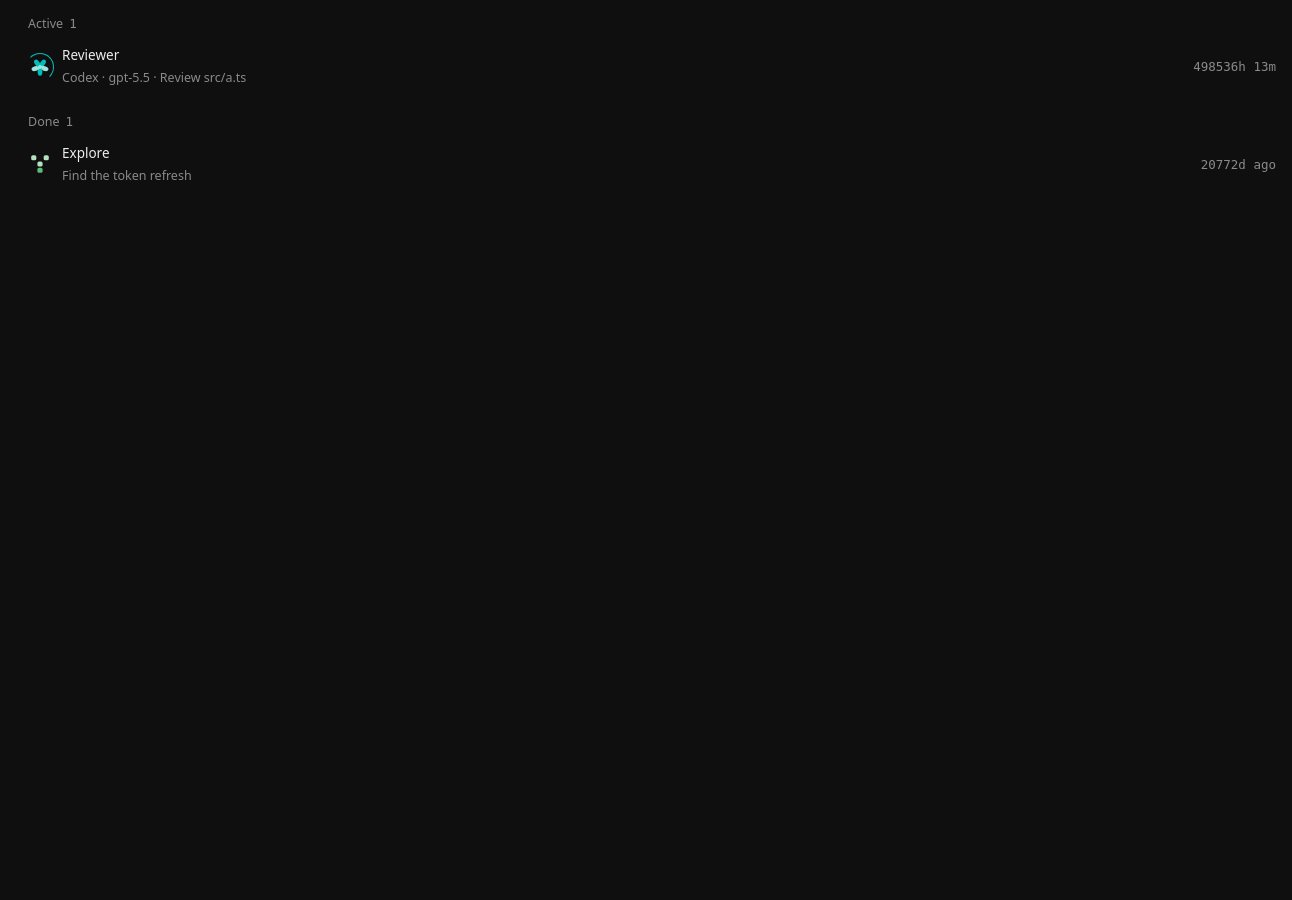
prompting a subagent from its detail › keeps the draft and says why when the prompt cannot be sent
This screenshot has width=1292, height=900.
Click the button "Reviewer Codex · gpt-5.5 · Review src/a.ts 498536h 13m". click: (91, 55)
box: [20,39,1284,94]
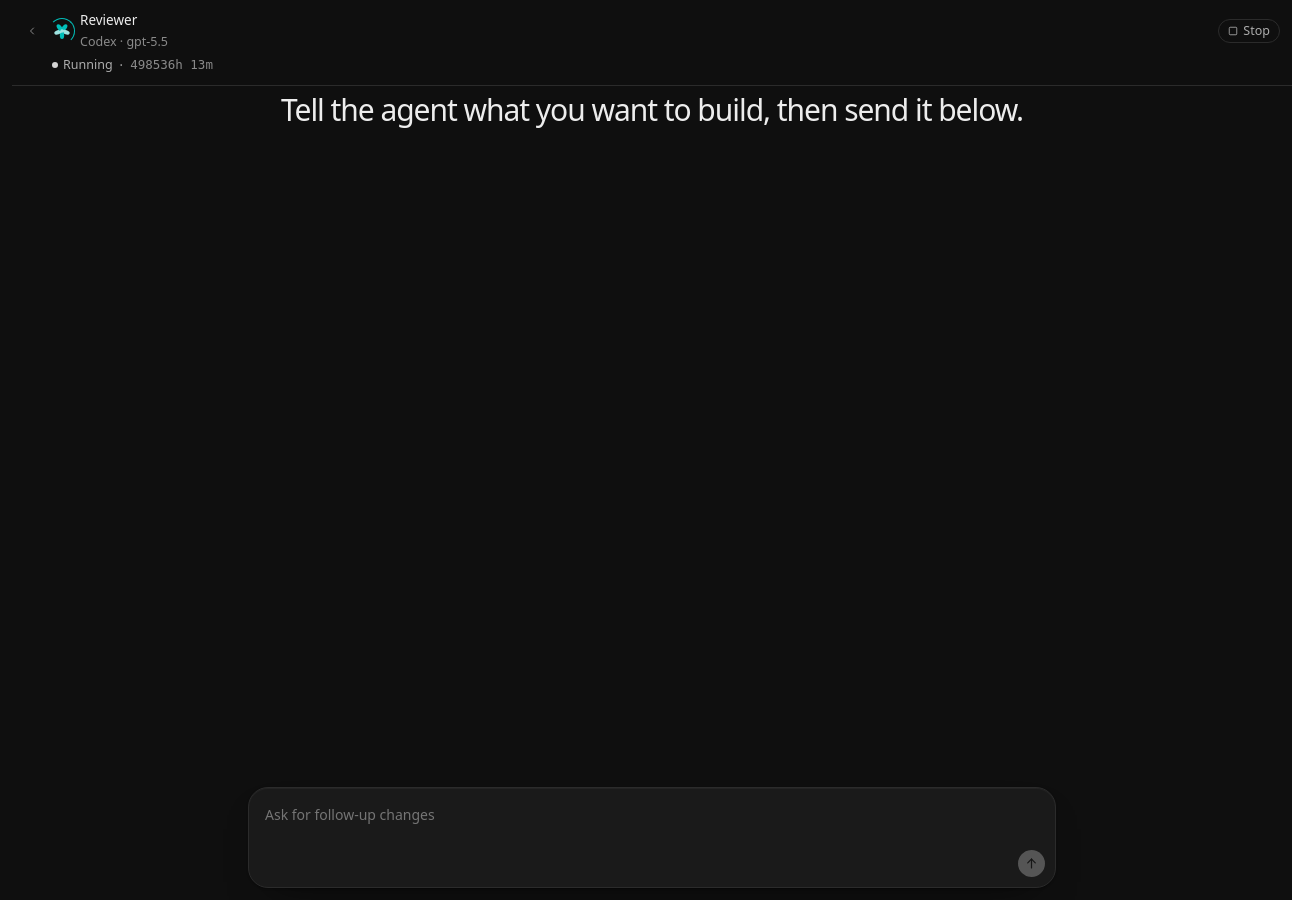
Type "Try again" into the text box named "Message subagent". click: (652, 835)
box: [249,788,1055,882]
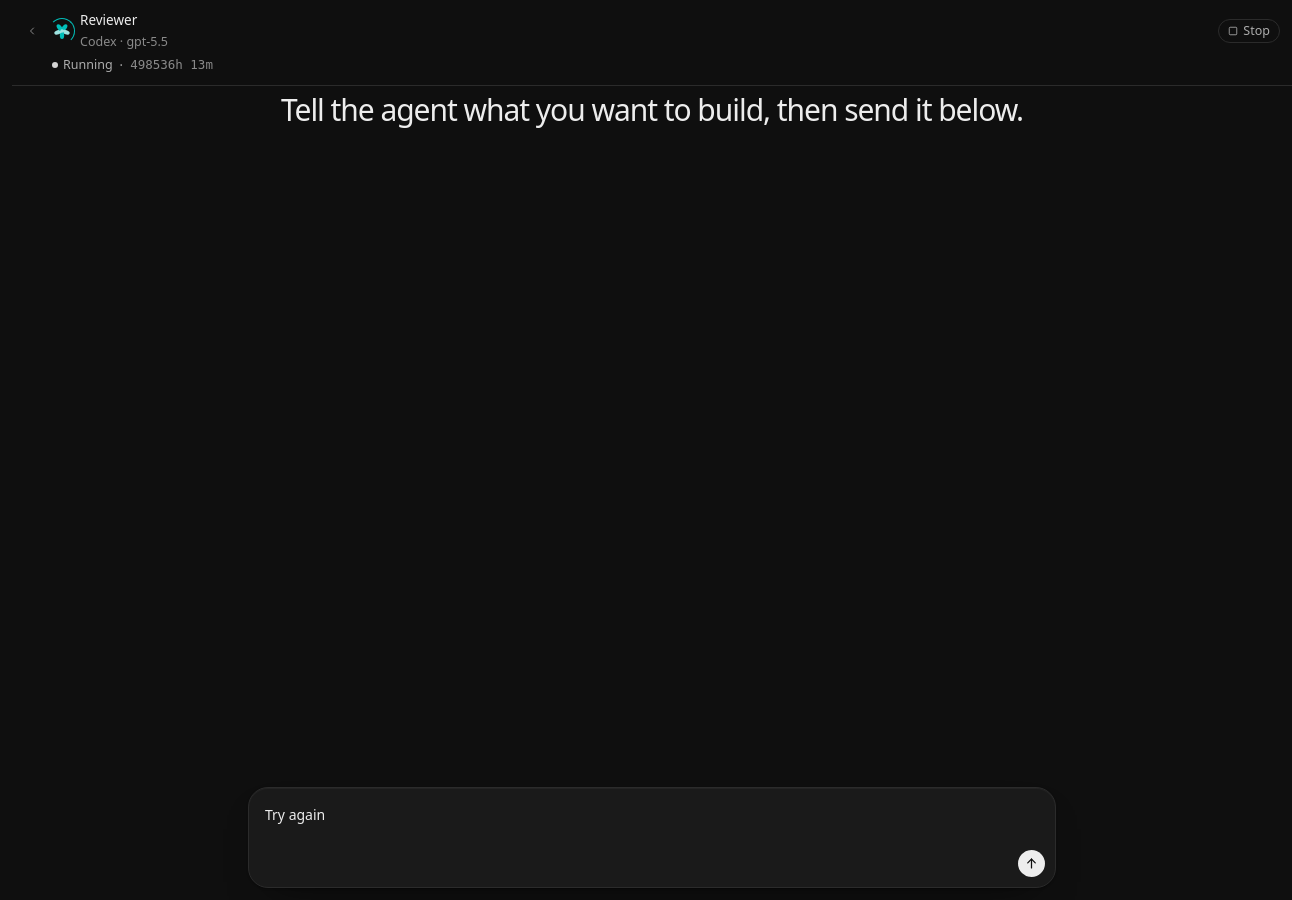
Click the button named "Send message". click: (1032, 864)
box: [1018,850,1045,877]
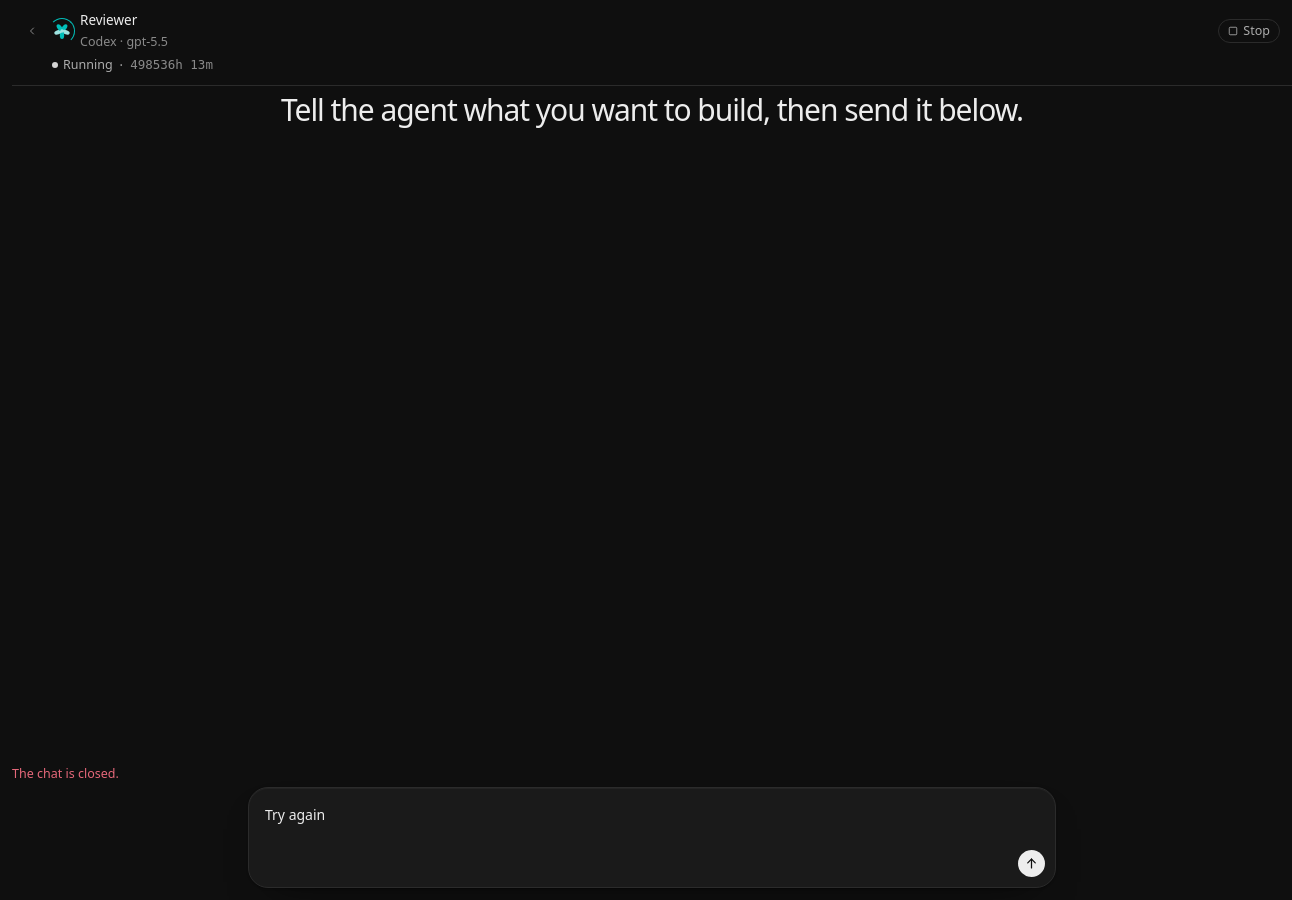
expect the message reads "The chat is closed.": met, box [12,765,119,782]
